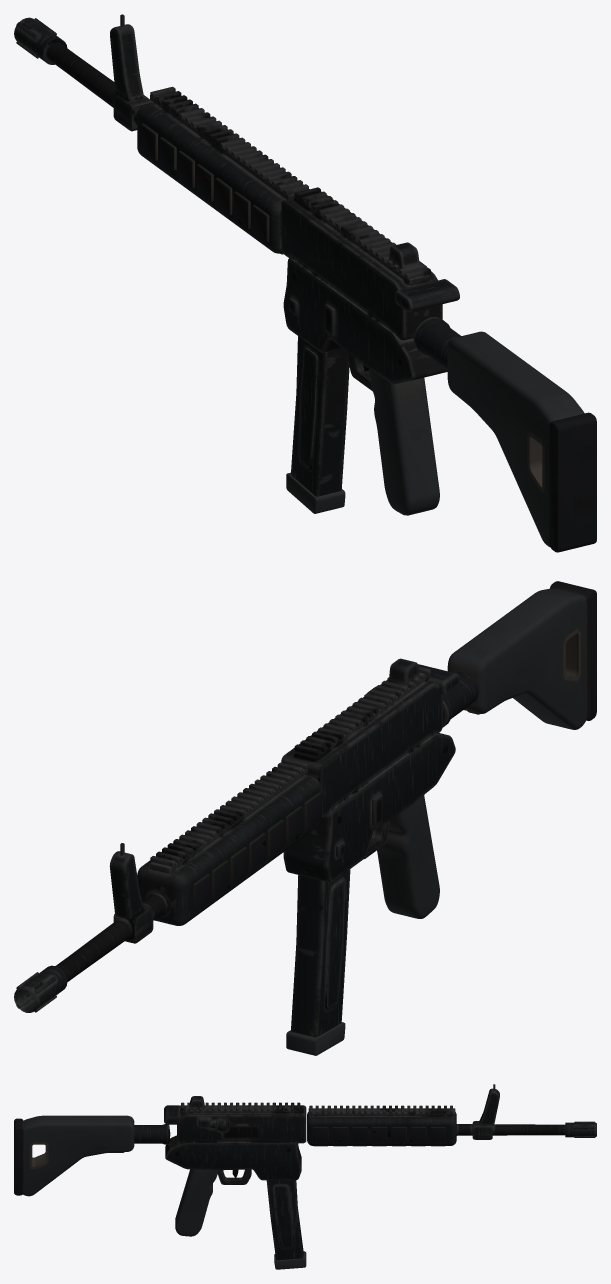
The picture shows the model from 3 angles, top to bottom: view 1: azimuth 30°, elevation 25°; view 2: azimuth 150°, elevation 25°; view 3: azimuth 270°, elevation 25°; orthographic projection. The views are drawn at different scales.
Parts seen in each view (by area): view 1: body_receiver, body_furniture, body_metal, mag_receiver, bolt_receiver, mag_furniture; view 2: body_receiver, body_furniture, mag_receiver, body_metal, mag_furniture; view 3: body_receiver, body_furniture, body_metal, mag_receiver, mag_furniture, bolt_receiver.
Boxes of the visible parts, x1,y1,x2,y2 form: body_receiver: (14, 14, 461, 391); body_furniture: (369, 331, 584, 546); body_metal: (140, 123, 596, 552); mag_receiver: (291, 336, 349, 496); bolt_receiver: (395, 279, 459, 312); mag_furniture: (286, 472, 345, 513); body_receiver: (14, 658, 479, 1012); body_furniture: (377, 588, 586, 918); mag_receiver: (291, 869, 350, 1037); body_metal: (193, 581, 596, 911); mag_furniture: (286, 1022, 345, 1055); body_receiver: (134, 1084, 596, 1184); body_furniture: (23, 1115, 218, 1236); body_metal: (14, 1118, 445, 1195); mag_receiver: (266, 1180, 303, 1260); mag_furniture: (274, 1251, 306, 1269); bolt_receiver: (164, 1105, 180, 1124).
Bounding box in the file's own units: 0.0618 × 0.3281 × 0.954.
Materials: 6 (6 with a texture image).
